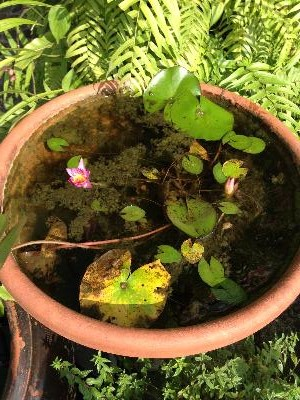bowl: (2, 72, 300, 357)
